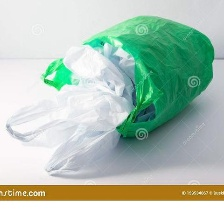plastic_bag: (35, 11, 219, 140), (1, 79, 140, 177), (57, 41, 138, 101)
